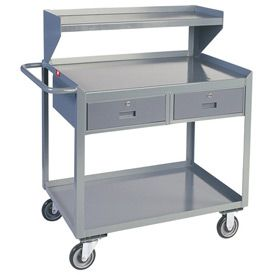Carts: (18, 3, 255, 269)
